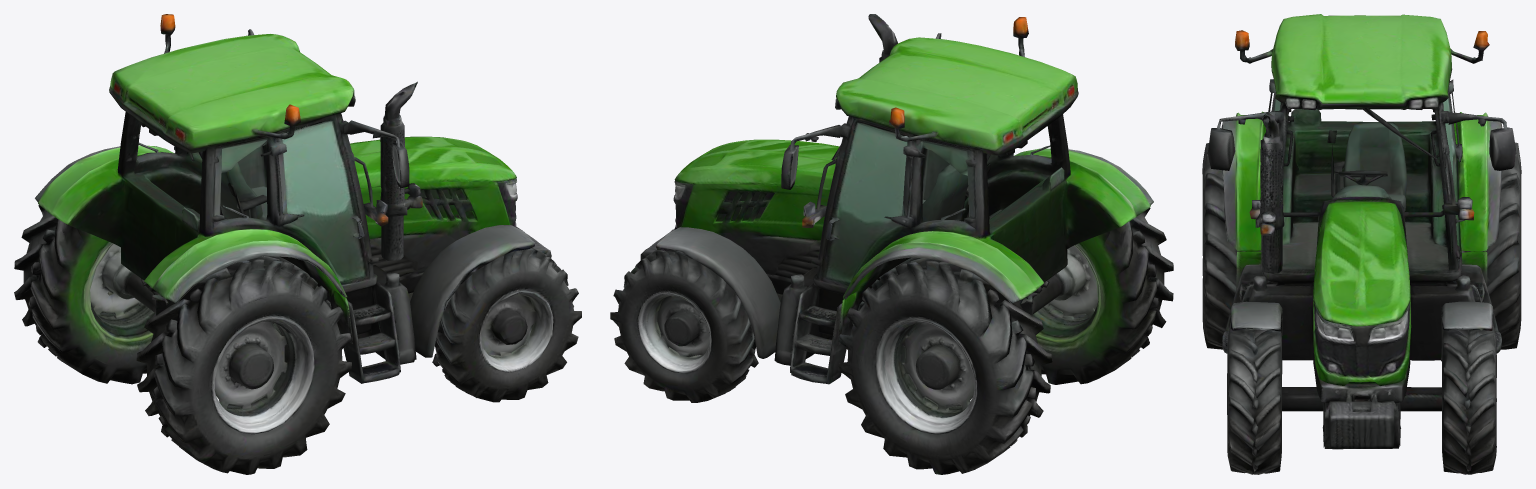
File: veh_traktor.glb
The picture shows the model from 3 angles, left to right: view 1: azimuth 30°, elevation 25°; view 2: azimuth 150°, elevation 25°; view 3: azimuth 270°, elevation 25°; orthographic projection. The views are drawn at different scales.
Visible parts, largest first — view 1: tripo_node_c7db7cb2-f3d8-4c62-8c97-5b0743a40634; view 2: tripo_node_c7db7cb2-f3d8-4c62-8c97-5b0743a40634; view 3: tripo_node_c7db7cb2-f3d8-4c62-8c97-5b0743a40634.
Part boxes in pixels (x1,y1,x2,y2): tripo_node_c7db7cb2-f3d8-4c62-8c97-5b0743a40634: [14, 14, 581, 474]; tripo_node_c7db7cb2-f3d8-4c62-8c97-5b0743a40634: [610, 14, 1173, 474]; tripo_node_c7db7cb2-f3d8-4c62-8c97-5b0743a40634: [1202, 14, 1521, 474].
Bounding box in the file's own units: 0.979 × 0.7286 × 0.6341.
Materials: 1 (1 with a texture image).
